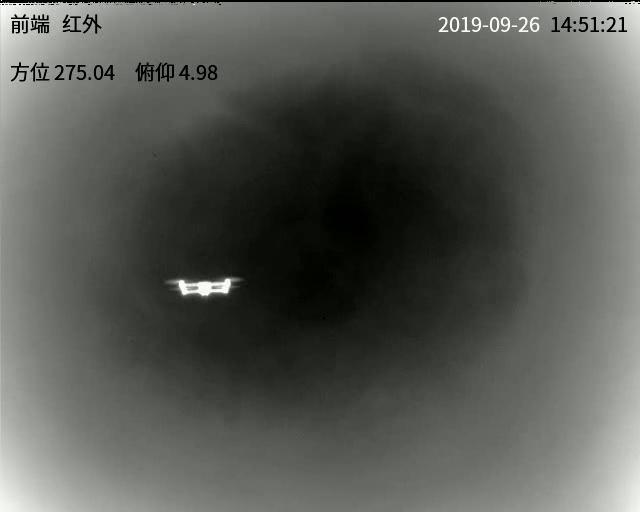DRONE: (170, 278, 236, 298)
